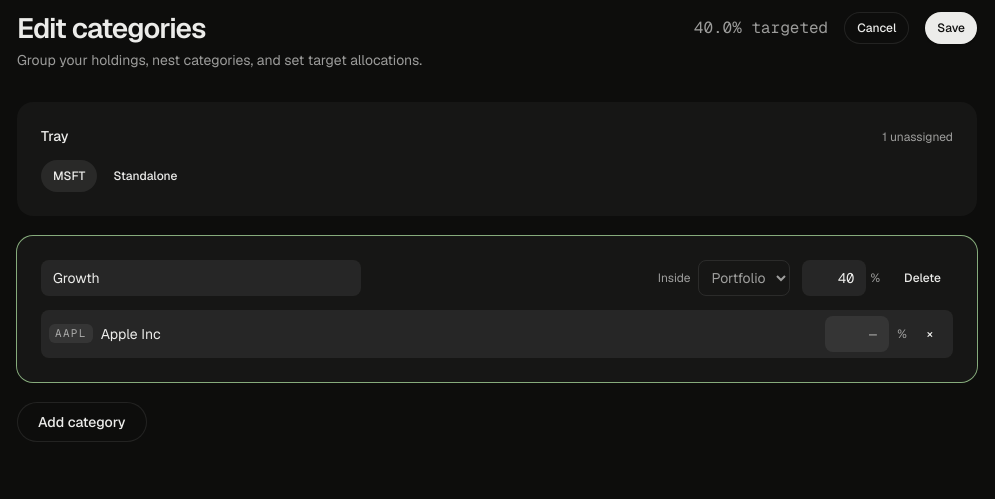
it: CategoriesEditor › surfaces a save error inline and stays open
Click the button "Save" at (951, 28), box [925,12,977,44]
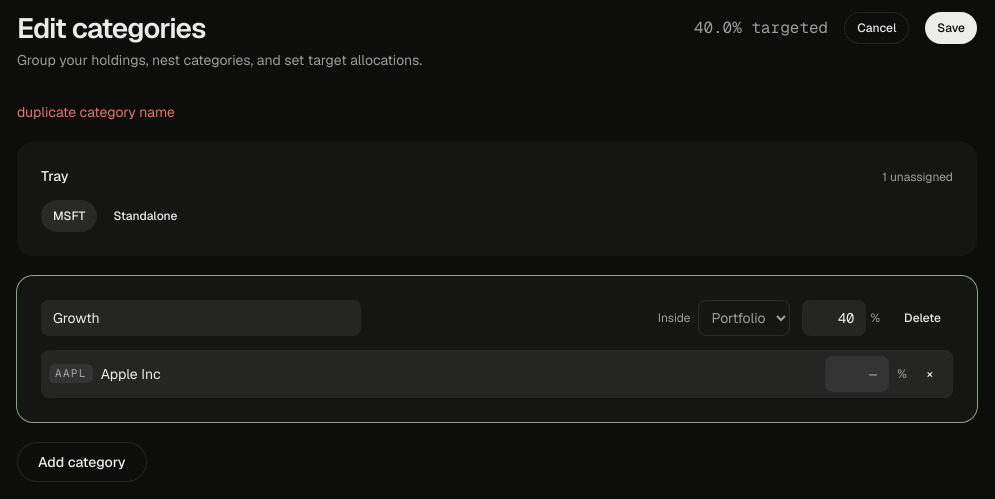
Now the text "duplicate category name" is shown, box [17,103,175,121]
